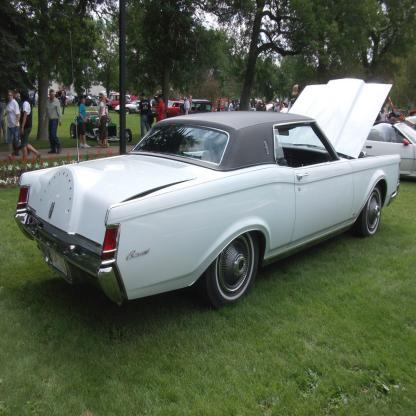Car: (13, 76, 403, 311), (363, 119, 415, 178), (104, 88, 210, 114), (406, 113, 416, 130)
